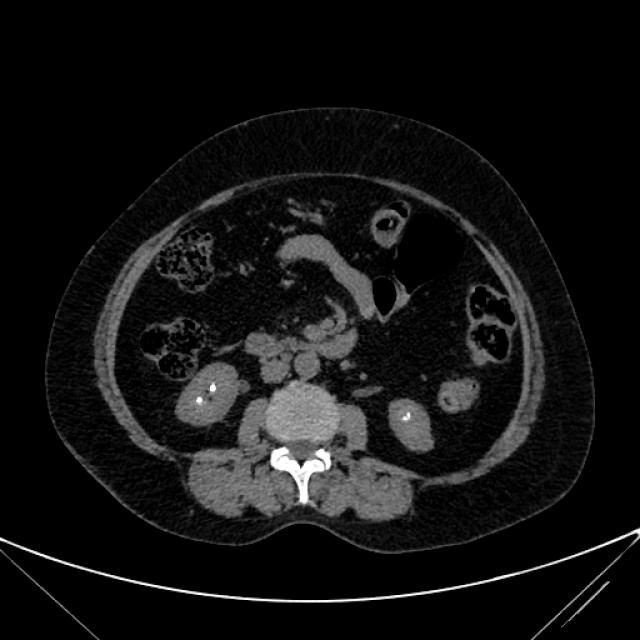kidney: (181, 366, 231, 424), (394, 403, 435, 448)
stone: (195, 397, 202, 404), (404, 414, 409, 421), (210, 385, 215, 391)
